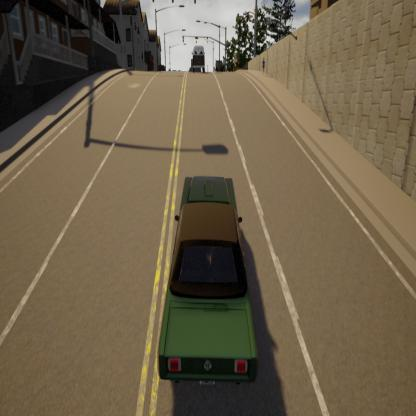Cars: (156, 176, 257, 390), (192, 43, 206, 73)
Pedestrian: (260, 54, 267, 79)
